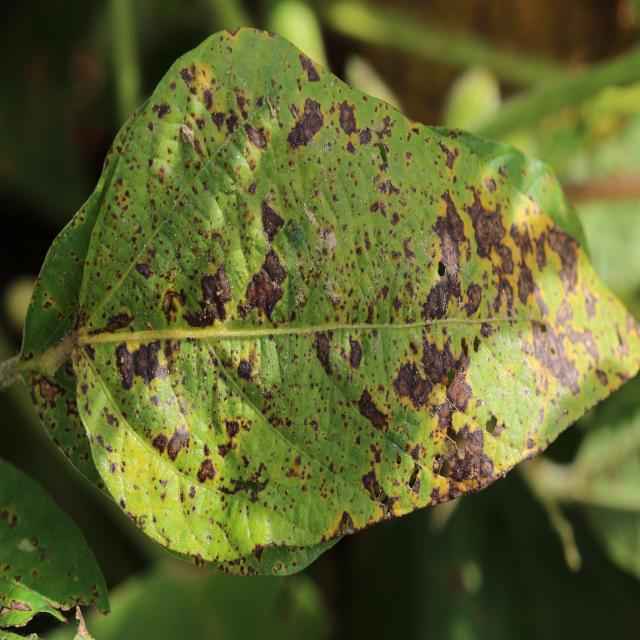Bacterial_Blight: (145, 132, 187, 238), (446, 424, 494, 487), (466, 186, 506, 261), (392, 349, 434, 412), (193, 264, 234, 326), (544, 223, 581, 289), (286, 95, 326, 150), (252, 197, 290, 245), (445, 358, 475, 414), (421, 273, 454, 322), (355, 385, 390, 430), (215, 471, 266, 500), (33, 375, 63, 410), (161, 289, 186, 326), (115, 344, 135, 390), (166, 425, 189, 462), (337, 98, 358, 138), (95, 311, 133, 332), (298, 51, 322, 83), (314, 330, 333, 370), (146, 341, 165, 379), (243, 122, 268, 150), (438, 140, 458, 171), (464, 282, 482, 316), (348, 337, 364, 370), (376, 178, 401, 199), (196, 458, 216, 484), (361, 469, 378, 496), (321, 227, 338, 252), (373, 141, 389, 166), (180, 123, 196, 148), (152, 101, 171, 121), (223, 418, 241, 439), (69, 307, 82, 336), (237, 359, 254, 380), (135, 262, 154, 280), (210, 110, 225, 132), (179, 66, 195, 86), (408, 464, 421, 488), (152, 433, 167, 453), (340, 510, 353, 532), (485, 414, 498, 435), (438, 458, 451, 479), (104, 411, 119, 428), (595, 369, 609, 387), (253, 544, 265, 565), (266, 96, 278, 117), (202, 88, 213, 110), (460, 337, 469, 357), (437, 260, 447, 277), (616, 329, 624, 348), (309, 418, 319, 432), (473, 336, 481, 353), (395, 453, 403, 466), (159, 478, 168, 488), (540, 323, 548, 333), (109, 463, 116, 474), (120, 498, 126, 509), (550, 346, 556, 356), (148, 158, 153, 167)
Soybean: (9, 27, 640, 580)
